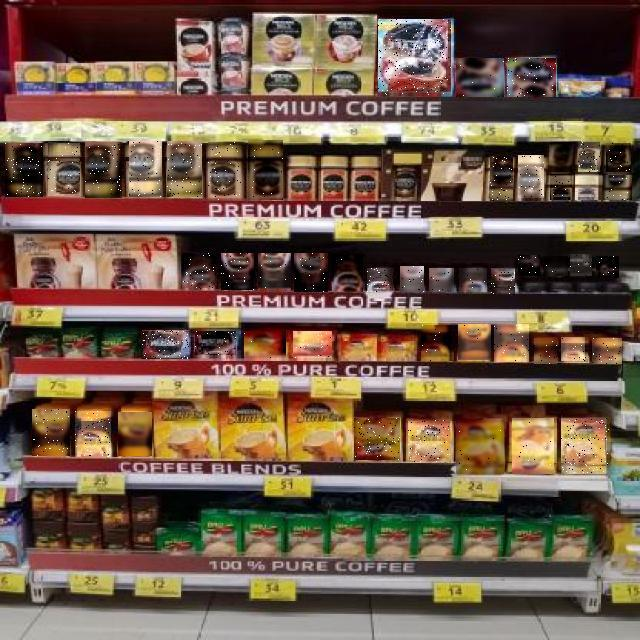Coffee: (378, 20, 451, 96), (562, 418, 610, 474), (456, 421, 504, 475), (512, 418, 554, 474), (86, 142, 124, 198), (248, 140, 283, 200), (208, 142, 244, 200), (5, 143, 43, 197), (167, 141, 202, 197), (355, 418, 401, 460), (507, 58, 556, 97), (456, 58, 504, 97), (129, 141, 162, 197), (32, 409, 70, 456), (408, 420, 450, 462), (48, 142, 80, 196), (75, 411, 111, 457), (119, 412, 153, 456), (142, 330, 190, 359), (494, 324, 529, 362), (294, 253, 328, 292), (258, 254, 291, 292), (221, 253, 254, 290), (182, 254, 215, 290), (458, 325, 491, 361), (332, 254, 363, 292), (245, 332, 287, 360), (422, 325, 454, 361), (518, 156, 544, 200), (293, 332, 332, 360), (195, 332, 236, 358), (490, 156, 513, 201), (593, 338, 623, 364), (606, 143, 631, 172), (603, 175, 632, 200), (576, 175, 602, 201), (459, 268, 487, 292), (578, 142, 600, 172), (551, 142, 573, 172), (401, 266, 425, 292), (367, 268, 393, 292), (430, 268, 456, 292), (491, 268, 515, 294), (562, 337, 588, 361), (534, 338, 557, 364), (550, 174, 572, 200), (596, 256, 619, 278), (570, 255, 592, 277), (544, 256, 568, 276), (518, 255, 540, 276)
